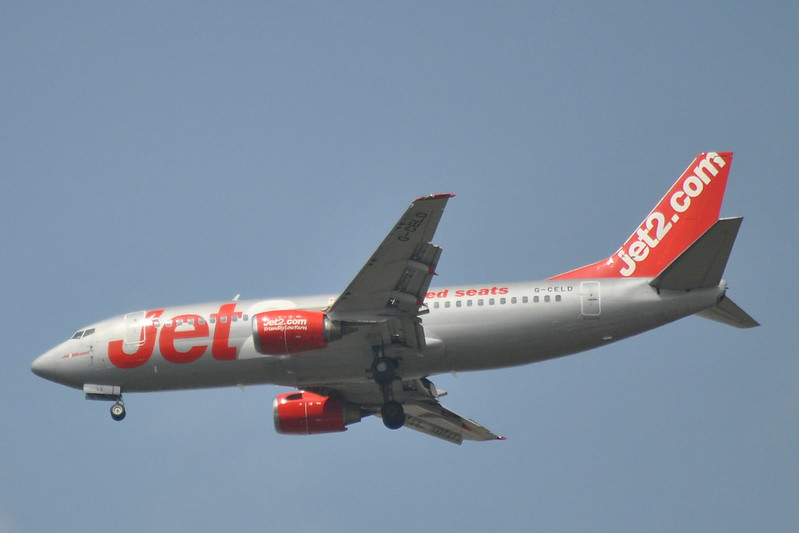aeroplane: (15, 139, 768, 444)
